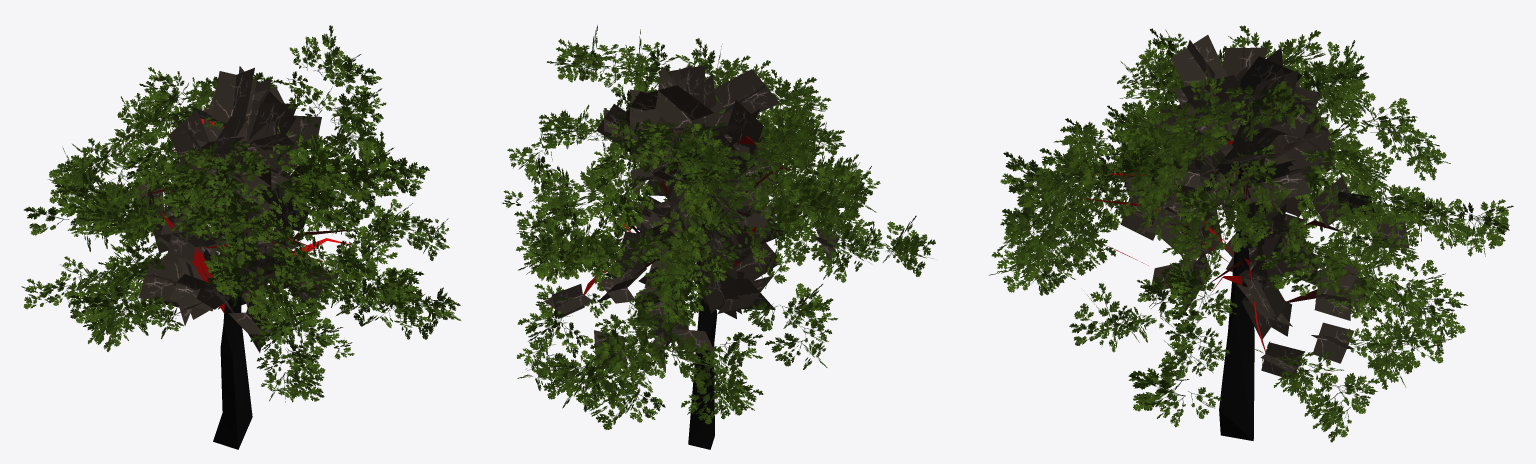
The model's file is maple4 lod2.FBX.
3 views of the same model, side by side, from view 1: azimuth 30°, elevation 25°; view 2: azimuth 150°, elevation 25°; view 3: azimuth 270°, elevation 25° (orthographic). The views are drawn at different scales.
Visible parts, largest first — view 1: maple4_LOD2; view 2: maple4_LOD2; view 3: maple4_LOD2.
Boxes of the visible parts, x1=… form: maple4_LOD2: x1=21, y1=25, x2=460, y2=449; maple4_LOD2: x1=502, y1=25, x2=935, y2=449; maple4_LOD2: x1=988, y1=25, x2=1513, y2=442.
Bounding box in the file's own units: 135159 × 120394 × 141129.
